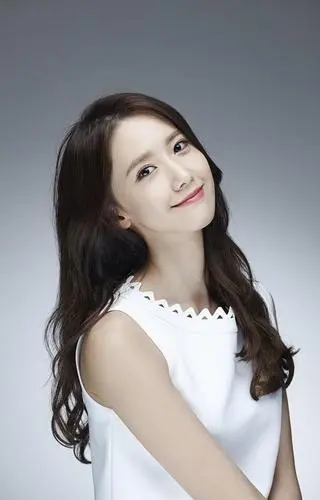withoutmask: (70, 84, 236, 252)
